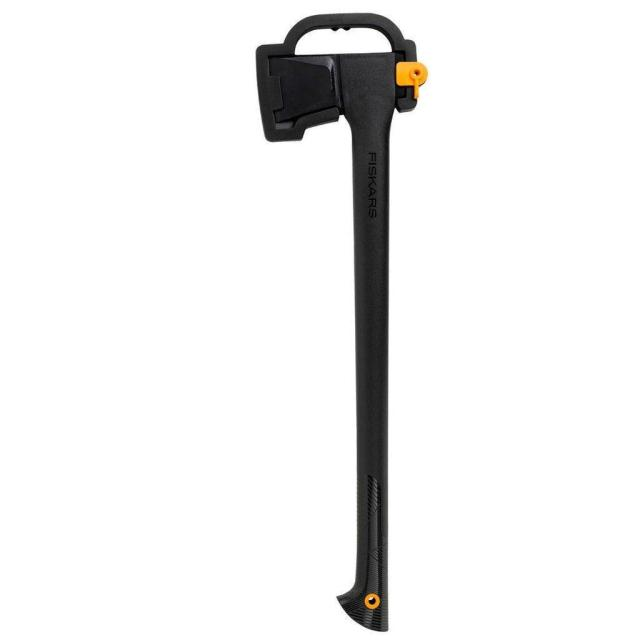Kapak: (239, 14, 445, 608)
